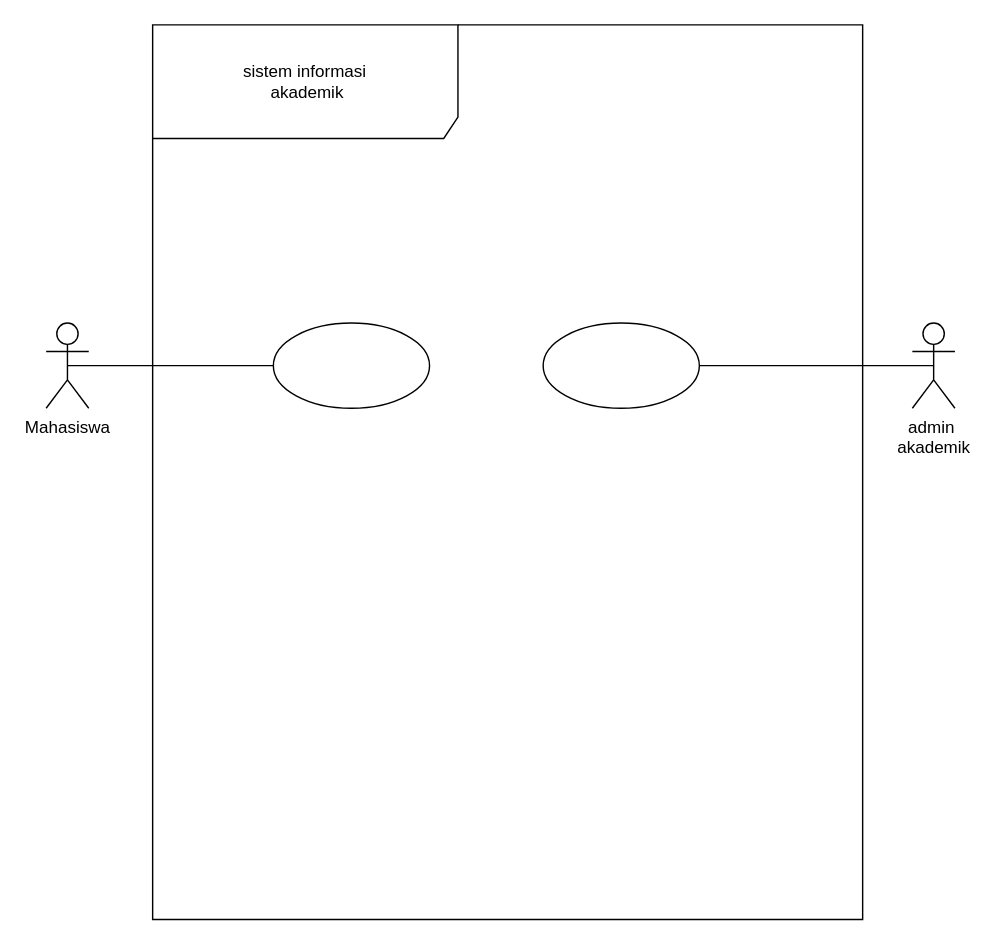
Some shapes in this 994 by 944 pixel diagram are drawn without their labels. The shapes that lost their labels are listed below. From the top down, each one's centre as x and y in pixels, then its label:
pixel 351 365: lihat jadwal kuliah
pixel 620 365: jkelola adwal kuliah
